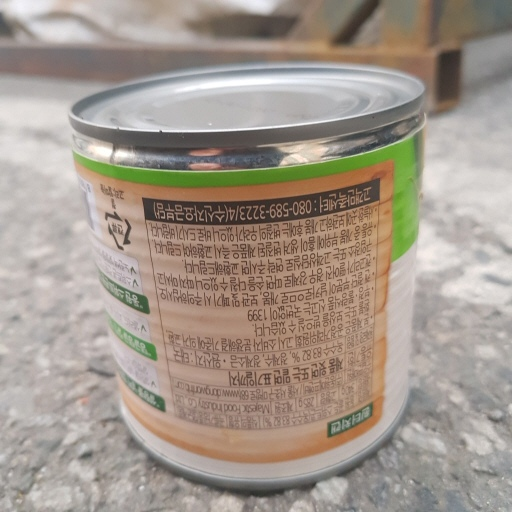Metal_1: (63, 63, 432, 490)
